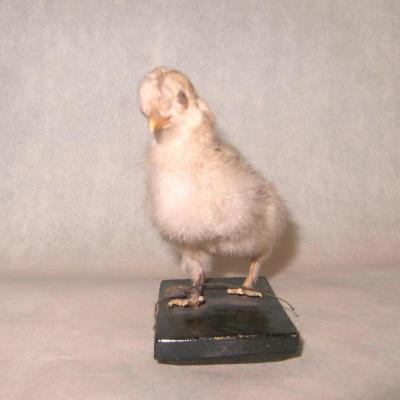natural_science_collection: (138, 66, 290, 310)
